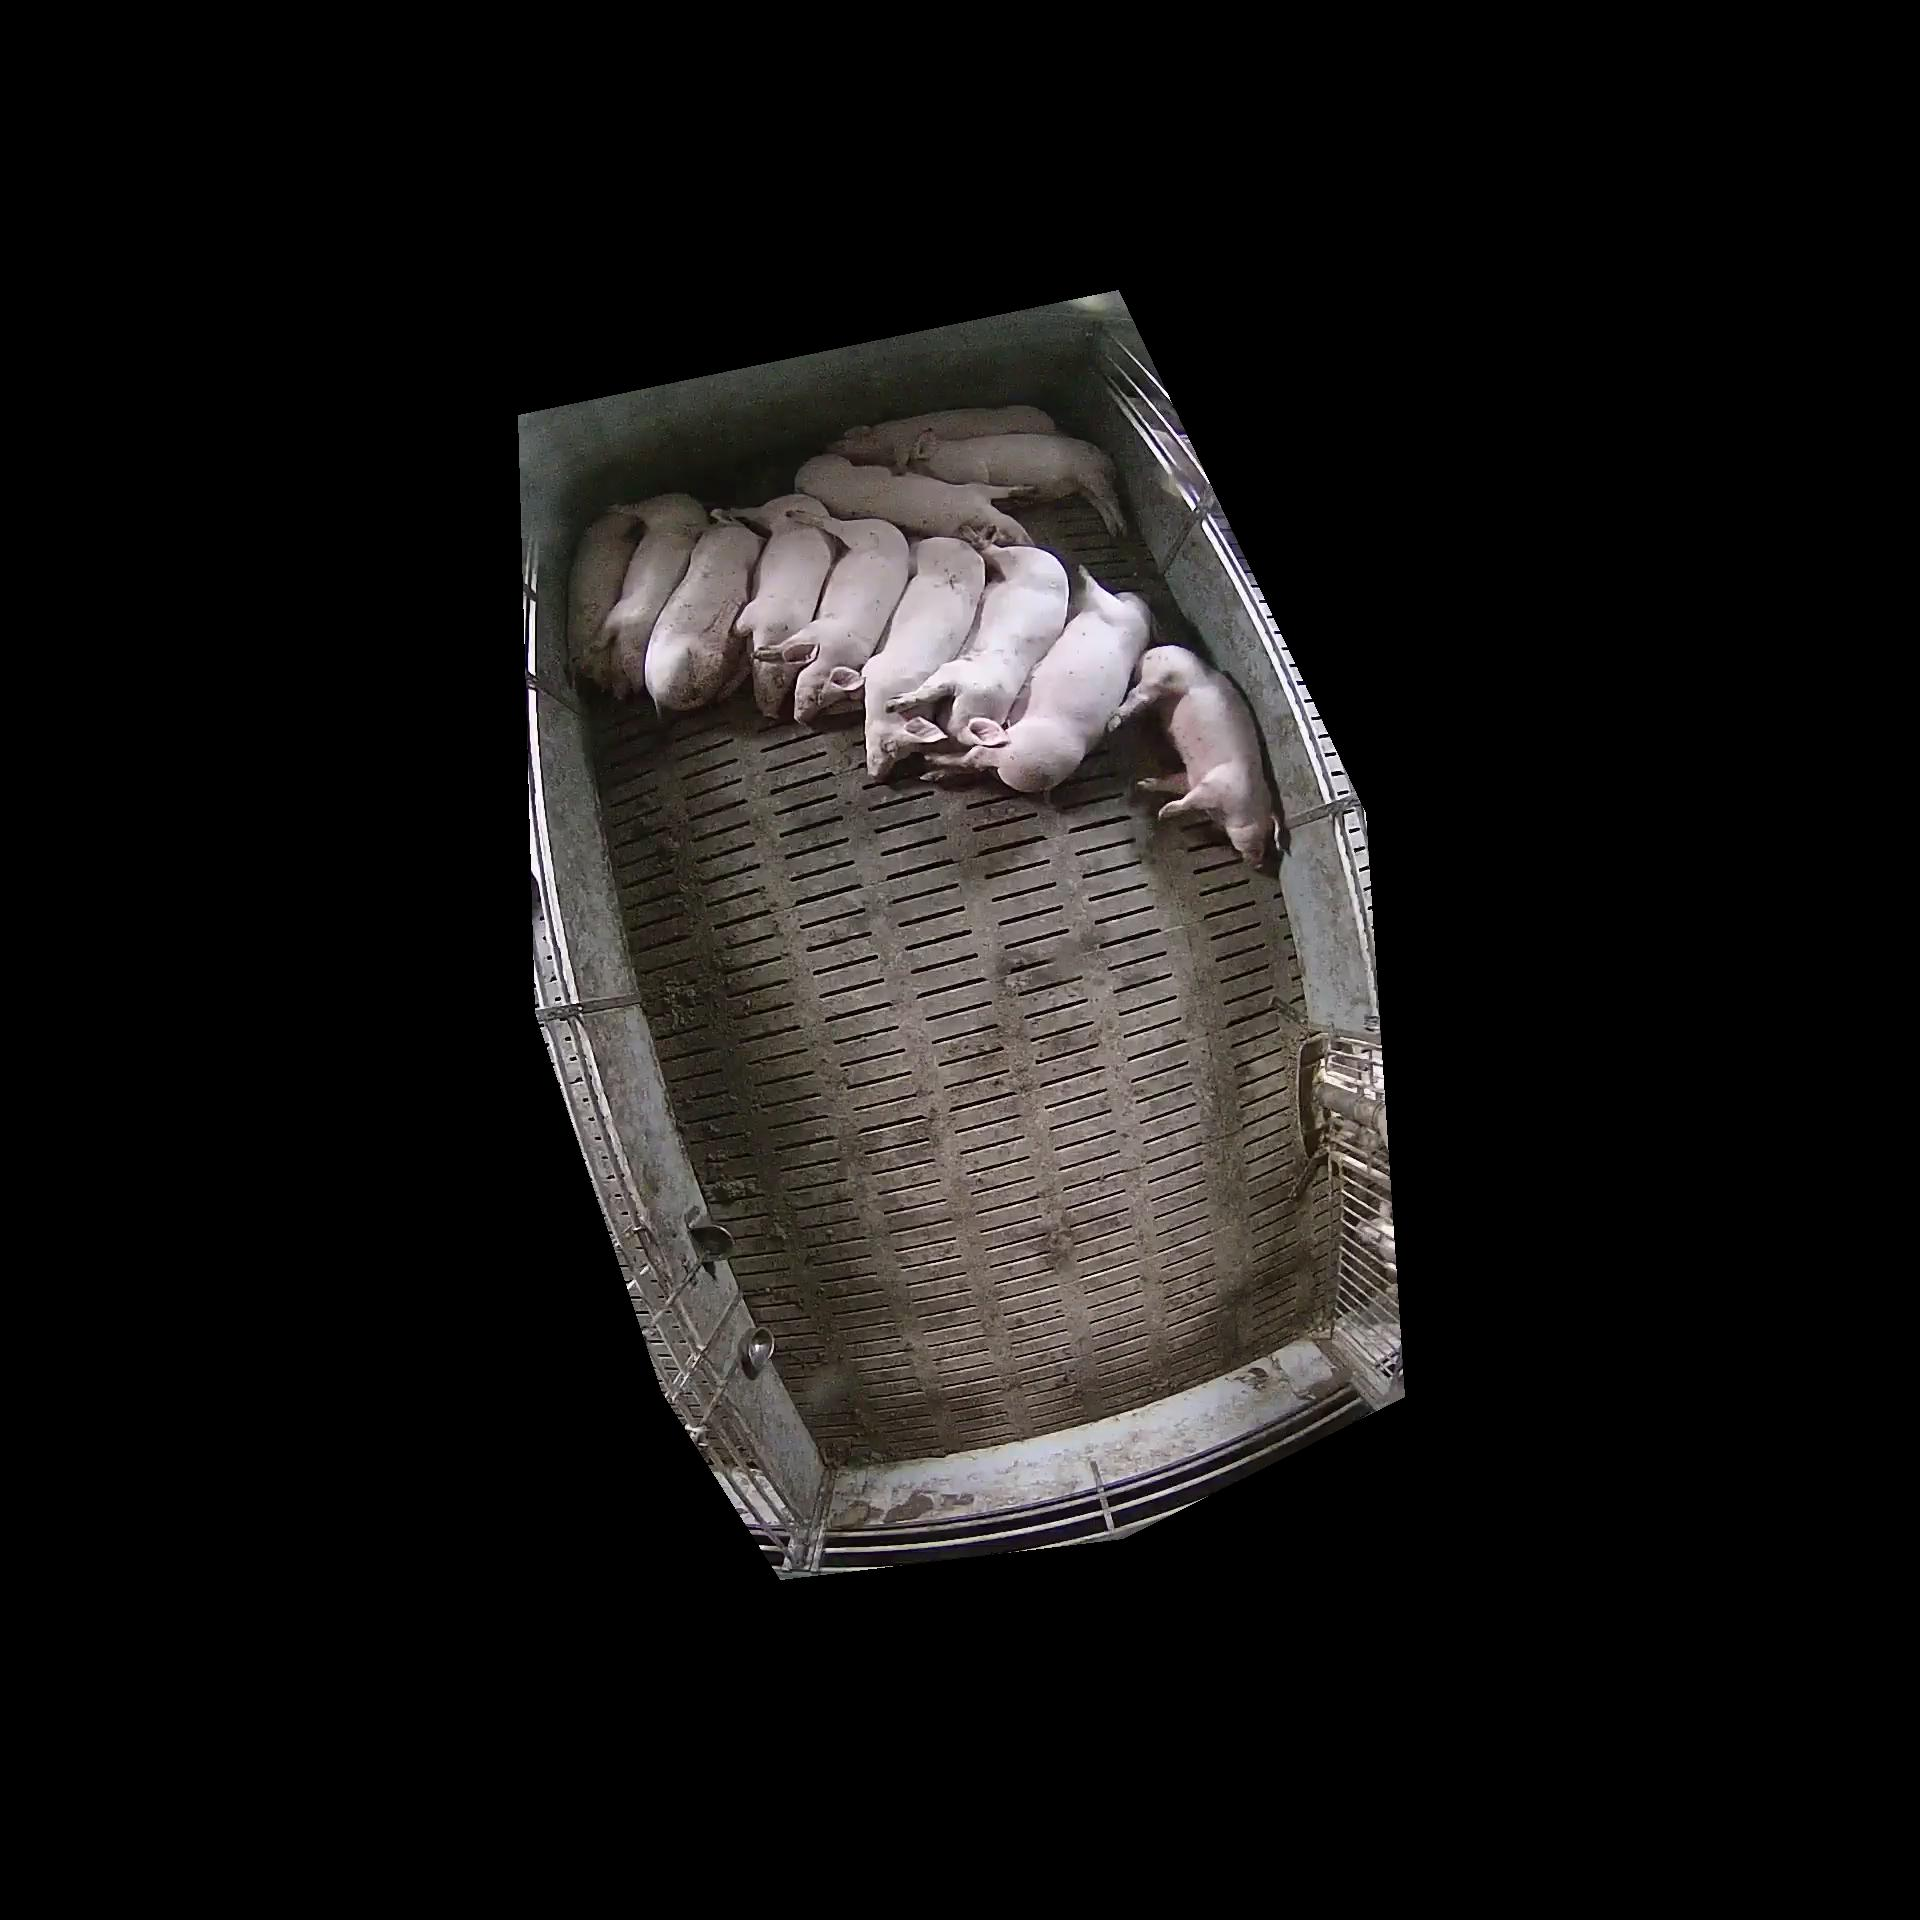pig: (918, 568, 1150, 793), (1109, 644, 1280, 869), (886, 547, 1065, 744), (863, 536, 983, 779), (779, 519, 909, 717), (712, 492, 826, 716), (642, 496, 758, 712), (909, 431, 1129, 536), (594, 492, 707, 698), (793, 450, 1034, 545), (568, 503, 638, 684), (840, 404, 1055, 461)
